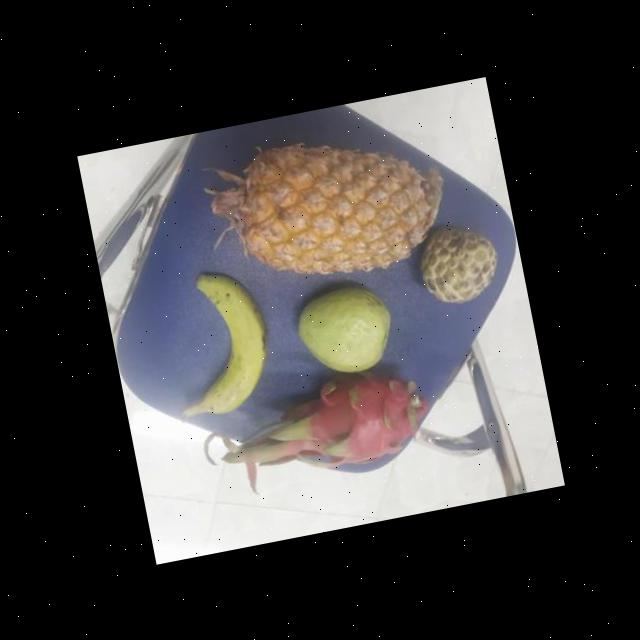Sakya fruit: (406, 216, 502, 308)
banana: (167, 268, 278, 419)
guava: (284, 277, 398, 378)
pineapple: (207, 124, 445, 294)
pitaya: (285, 359, 426, 476)
